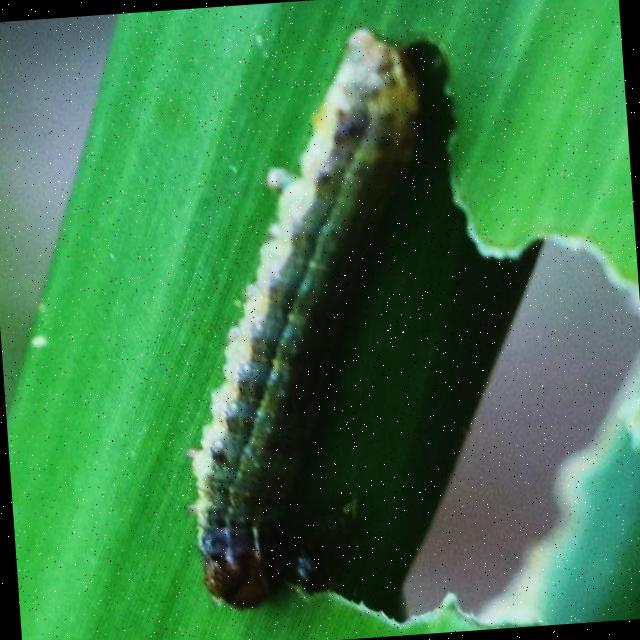worm: (157, 23, 462, 614)
